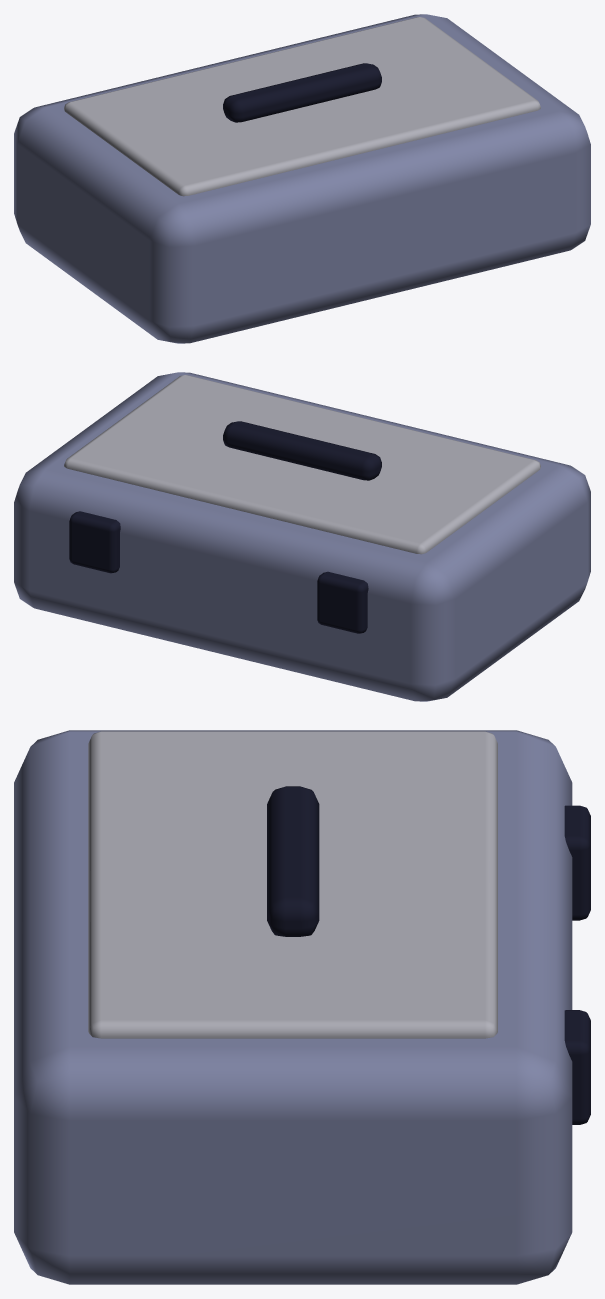
The model's file is prop.props_workrooms.bench_case.glb.
3 renders of one model, top to bottom at view 1: azimuth 30°, elevation 25°; view 2: azimuth 150°, elevation 25°; view 3: azimuth 270°, elevation 25°, orthographic. The views are drawn at different scales.
Parts seen in each view (by area): view 1: prop.props_workrooms.bench_case; view 2: prop.props_workrooms.bench_case; view 3: prop.props_workrooms.bench_case.
Part boxes in pixels (x1=…): prop.props_workrooms.bench_case: x1=14, y1=14, x2=590, y2=343; prop.props_workrooms.bench_case: x1=14, y1=372, x2=590, y2=701; prop.props_workrooms.bench_case: x1=14, y1=730, x2=590, y2=1284.
Bounding box in the file's own units: 0.46 × 0.168 × 0.31.
